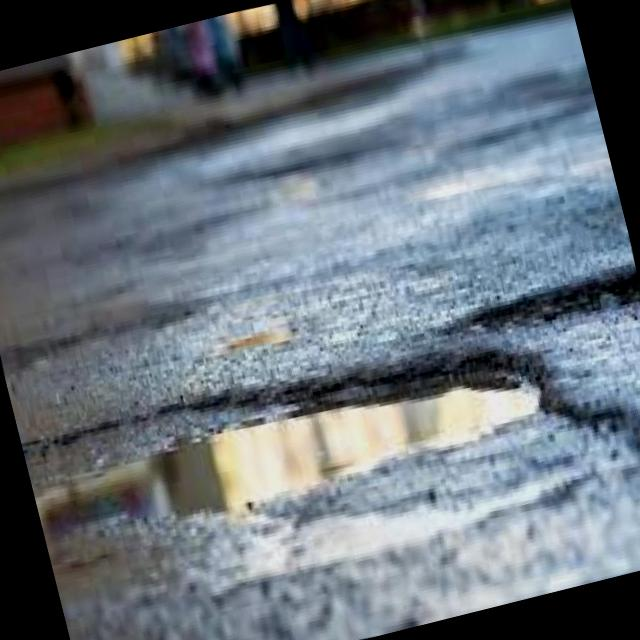Pathole: (28, 357, 602, 583)
